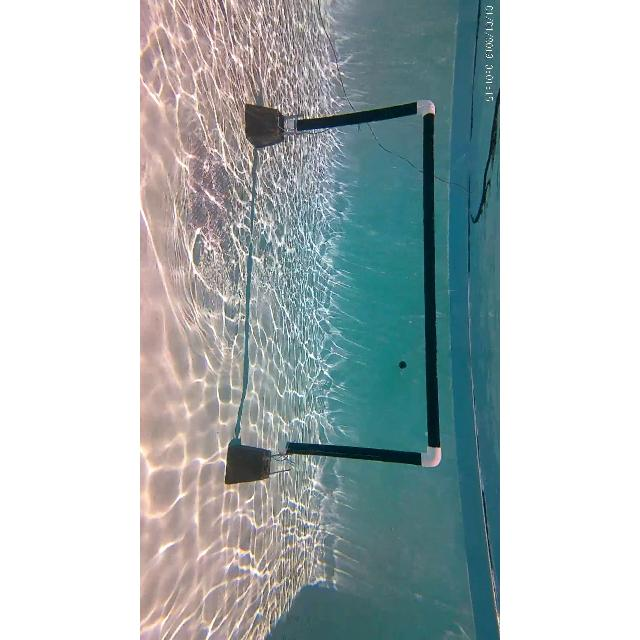prequal gate: (276, 100, 442, 470)
prequal gate leg l: (244, 97, 438, 143)
prequal gate leg r: (228, 432, 440, 484)
